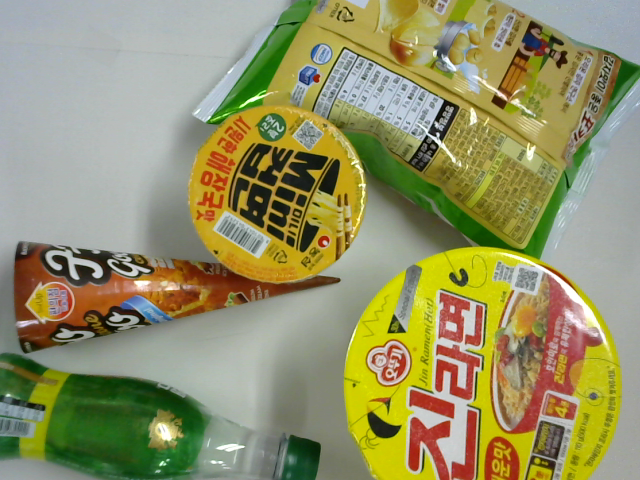GooGoo_Cone_CVS: (15, 237, 341, 354)
Hejangmini: (185, 106, 361, 281)
Jinlamyeon_Hot_Taste_Large_Cup: (344, 247, 620, 480)
Pocachip_Onion: (187, 1, 640, 274)
Seagram_Lemon_Carbonated_Water: (1, 352, 320, 480)
